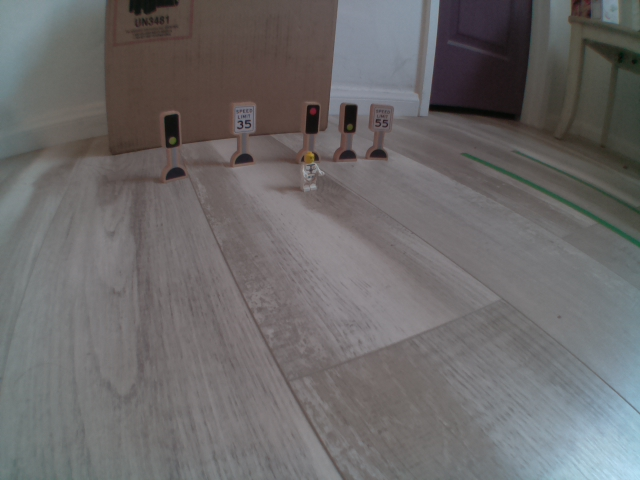Green Traffic Light: (154, 109, 190, 152), (336, 99, 361, 139)
Red Traffic Light: (302, 98, 321, 136)
Speed Limit 35: (230, 99, 262, 137)
Speed Limit 55: (366, 99, 394, 135)
person: (295, 149, 326, 191)
